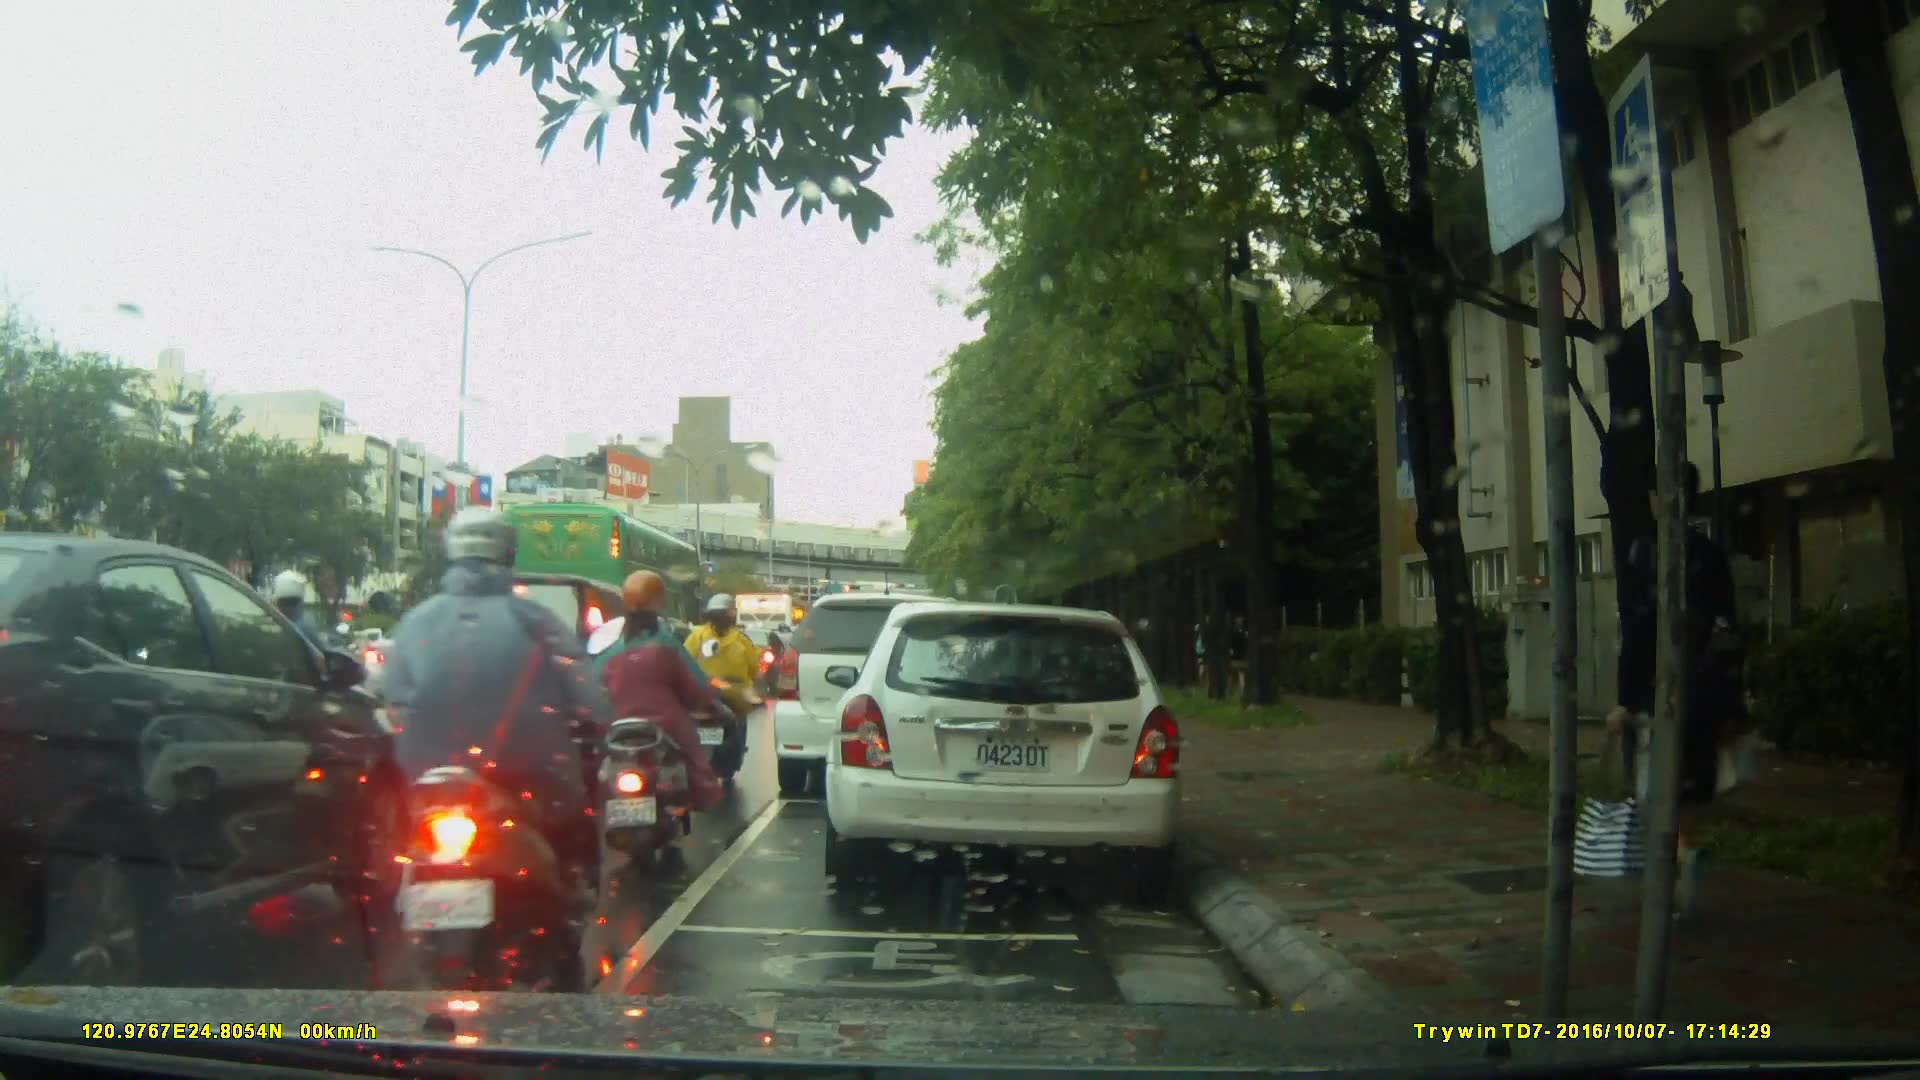pedestrian: (1569, 448, 1754, 946)
rider: (357, 502, 615, 1003), (586, 572, 697, 875), (251, 575, 360, 791), (683, 591, 768, 784)
vehicle: (8, 529, 423, 988), (831, 592, 1196, 897), (413, 569, 676, 791), (770, 592, 999, 800), (493, 500, 705, 658)
